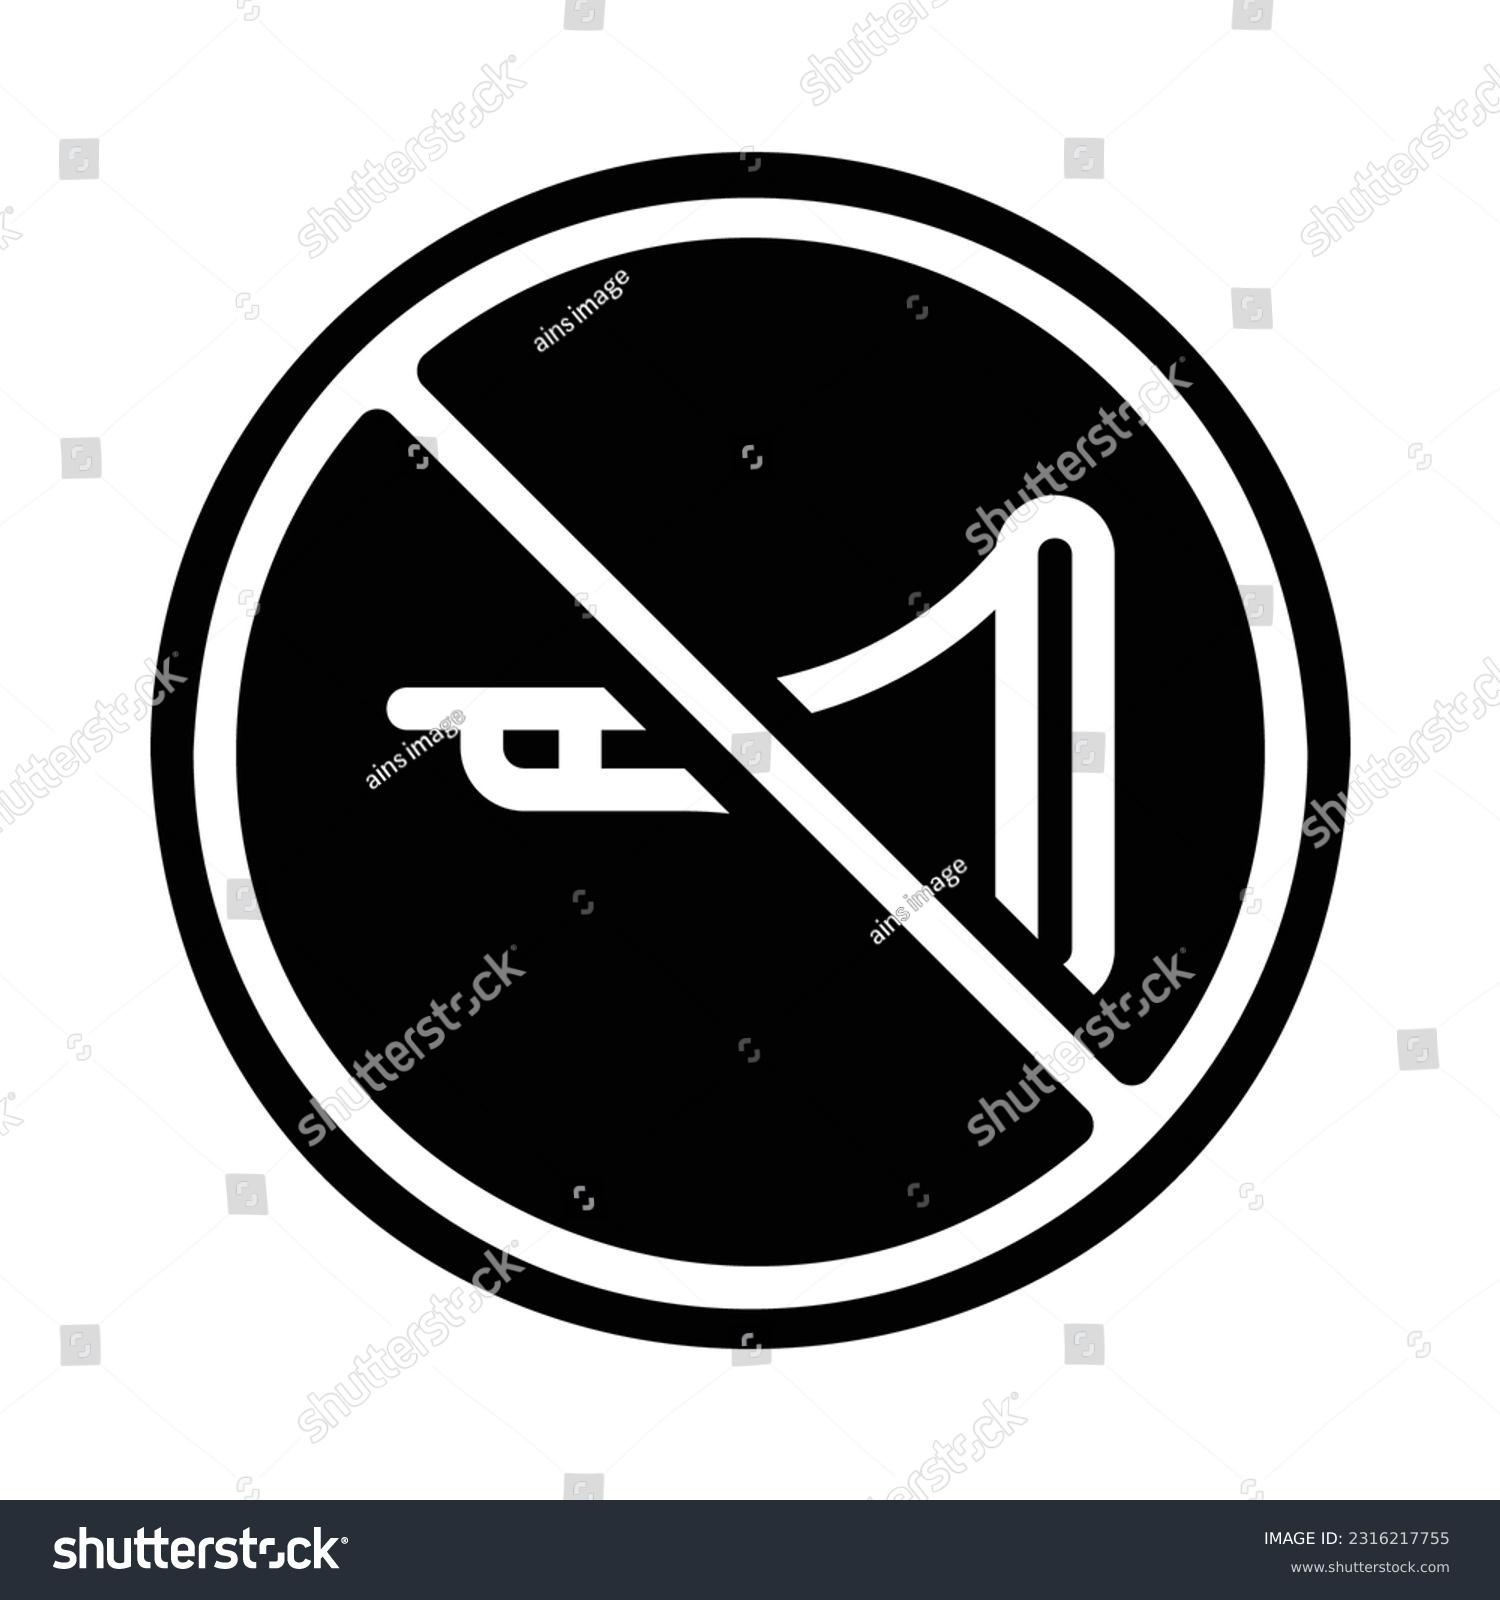Horn Prohibited: (104, 134, 1379, 1322)
